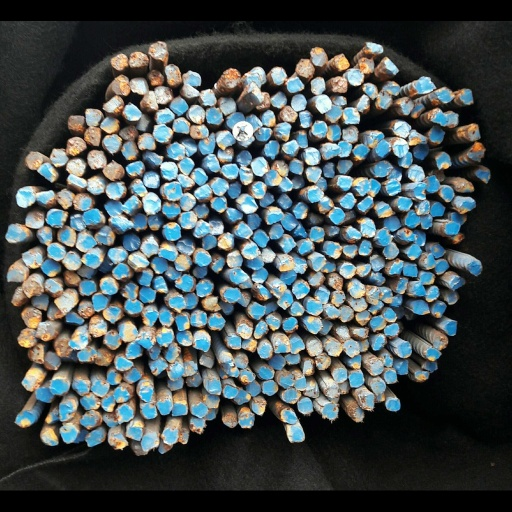dipstick: (102, 160, 125, 181), (46, 208, 68, 228), (22, 278, 44, 298), (245, 81, 264, 104), (5, 223, 26, 243), (21, 308, 42, 328), (94, 225, 115, 245), (57, 225, 76, 247), (66, 136, 86, 156), (87, 149, 107, 169), (75, 233, 96, 252), (112, 74, 130, 96), (15, 189, 35, 208), (118, 322, 138, 341), (128, 252, 148, 271), (140, 237, 159, 257), (164, 64, 182, 85), (102, 95, 124, 112), (148, 40, 167, 59), (50, 148, 69, 167), (59, 424, 78, 443), (153, 86, 173, 104), (140, 90, 158, 110), (102, 134, 122, 152), (109, 215, 129, 233), (143, 193, 161, 213), (215, 131, 235, 149), (83, 125, 100, 146), (129, 77, 148, 95), (122, 102, 141, 120), (170, 97, 188, 116), (25, 151, 43, 170), (37, 164, 56, 182), (86, 175, 104, 194), (36, 190, 55, 208), (55, 189, 73, 208), (47, 243, 66, 261), (63, 252, 82, 270), (44, 279, 63, 297), (17, 329, 36, 347), (43, 351, 61, 370), (121, 195, 139, 214), (166, 142, 185, 160), (152, 124, 171, 142), (22, 251, 42, 268), (41, 259, 61, 276), (175, 274, 195, 291), (154, 108, 175, 124), (110, 53, 128, 71), (37, 322, 55, 340), (54, 338, 72, 356), (138, 331, 156, 349), (149, 358, 167, 376), (164, 182, 182, 200), (65, 158, 84, 175), (119, 124, 138, 141), (25, 211, 44, 228), (6, 265, 25, 282), (15, 410, 34, 427), (58, 402, 75, 421), (104, 330, 121, 349), (160, 161, 177, 180), (188, 105, 205, 124), (226, 112, 245, 129), (251, 157, 268, 176), (278, 234, 295, 253), (296, 58, 313, 77), (128, 51, 148, 67), (11, 286, 27, 306), (80, 393, 100, 409), (224, 68, 240, 88), (85, 108, 102, 126), (121, 141, 138, 159), (73, 193, 91, 210), (106, 182, 124, 199), (99, 277, 117, 294), (80, 411, 98, 428), (85, 430, 103, 447), (116, 404, 133, 422), (122, 234, 140, 251), (164, 222, 181, 240), (130, 179, 147, 197), (205, 106, 222, 124), (179, 192, 196, 210), (166, 363, 184, 380), (217, 232, 234, 250), (304, 317, 322, 334), (315, 95, 332, 113), (325, 105, 342, 123), (343, 339, 360, 357), (417, 76, 434, 94), (373, 160, 391, 177), (36, 226, 52, 245), (21, 375, 40, 391), (176, 238, 195, 254), (310, 47, 326, 66), (35, 387, 55, 402), (69, 214, 86, 231), (77, 301, 94, 318), (41, 429, 58, 446), (92, 379, 109, 396), (125, 342, 142, 359), (151, 256, 168, 273), (143, 171, 160, 188), (191, 168, 208, 185), (174, 254, 191, 271), (211, 178, 228, 195), (342, 107, 359, 124), (99, 116, 117, 132), (63, 271, 81, 287), (92, 293, 108, 311), (27, 345, 43, 363), (50, 379, 68, 395), (124, 298, 142, 314), (189, 310, 207, 326), (194, 185, 212, 201), (220, 97, 236, 115), (260, 109, 276, 127), (281, 212, 297, 230), (318, 196, 334, 214), (322, 143, 340, 159), (342, 125, 358, 143), (393, 121, 411, 137), (393, 139, 409, 157), (104, 200, 123, 215), (65, 311, 84, 326), (68, 334, 87, 349), (77, 347, 96, 362), (108, 248, 127, 263), (181, 137, 196, 156), (210, 253, 225, 272), (292, 255, 307, 274), (147, 69, 164, 85), (183, 70, 200, 86), (67, 115, 84, 131), (83, 209, 100, 225), (31, 294, 48, 310), (89, 321, 106, 337), (113, 386, 129, 403), (141, 434, 158, 450), (122, 282, 138, 299), (112, 263, 128, 280), (153, 276, 169, 293), (126, 160, 143, 176), (138, 133, 155, 149), (180, 211, 196, 228), (142, 309, 158, 326), (176, 330, 193, 346), (226, 250, 242, 267), (210, 195, 226, 212), (243, 243, 260, 259), (230, 268, 247, 284), (252, 267, 268, 284), (245, 213, 261, 230), (240, 197, 257, 213), (199, 137, 215, 154), (282, 140, 299, 156), (264, 170, 281, 186), (266, 208, 283, 224), (315, 353, 331, 370), (304, 148, 320, 165), (287, 77, 304, 93), (348, 69, 364, 86), (345, 226, 361, 243), (377, 91, 393, 108), (398, 98, 414, 115), (357, 195, 374, 211), (408, 166, 425, 182), (458, 197, 475, 213), (434, 153, 451, 169), (109, 434, 127, 449), (82, 253, 100, 268), (162, 202, 180, 217), (179, 157, 194, 175), (221, 164, 239, 179), (271, 67, 286, 85), (276, 123, 291, 141), (310, 77, 325, 95), (375, 139, 390, 157), (470, 142, 485, 160), (180, 84, 199, 98), (68, 173, 87, 187), (122, 368, 141, 382), (239, 166, 253, 185), (136, 271, 152, 287), (131, 213, 147, 229), (173, 117, 189, 133), (200, 89, 216, 105), (193, 202, 209, 218), (234, 389, 250, 405), (262, 380, 278, 396), (205, 379, 221, 395), (209, 314, 225, 330), (248, 303, 264, 319), (281, 106, 297, 122), (268, 223, 284, 239), (322, 403, 338, 419), (307, 186, 323, 202), (329, 208, 345, 224), (339, 263, 355, 279), (362, 83, 378, 99), (383, 243, 399, 259), (413, 144, 429, 160), (79, 280, 96, 295), (195, 281, 212, 296), (235, 223, 252, 238), (271, 91, 286, 108), (283, 388, 300, 403), (318, 318, 333, 335), (292, 283, 309, 298), (312, 121, 327, 138), (334, 54, 349, 71), (332, 76, 347, 93), (383, 81, 400, 96), (370, 254, 385, 271), (384, 216, 401, 231), (375, 202, 392, 217), (405, 210, 420, 227), (429, 126, 444, 143), (103, 306, 121, 320), (190, 124, 208, 138), (177, 173, 195, 187), (253, 321, 267, 339), (254, 126, 272, 140), (412, 229, 426, 247), (102, 412, 118, 427), (131, 440, 147, 455), (162, 428, 178, 443), (156, 331, 172, 346), (139, 287, 155, 302), (166, 264, 182, 279), (158, 311, 173, 327), (238, 412, 254, 427), (202, 296, 218, 311), (224, 288, 240, 303), (195, 251, 211, 266), (194, 221, 209, 237), (237, 323, 252, 339), (253, 231, 268, 247), (251, 182, 266, 198), (279, 256, 295, 271), (277, 293, 293, 308), (298, 397, 313, 413), (326, 341, 342, 356), (307, 300, 323, 315), (314, 287, 329, 303), (311, 255, 326, 271), (306, 167, 321, 183), (291, 94, 306, 110), (326, 124, 341, 140), (337, 141, 352, 157), (358, 58, 374, 73), (353, 144, 369, 159), (337, 175, 352, 191), (340, 193, 355, 209), (360, 220, 375, 236), (438, 88, 454, 103), (76, 379, 90, 396), (115, 356, 132, 370), (207, 155, 221, 172), (288, 428, 305, 442), (299, 111, 313, 128), (384, 58, 398, 75), (378, 229, 392, 246), (427, 175, 440, 193), (368, 178, 380, 197), (141, 403, 156, 418), (190, 418, 205, 433), (259, 364, 274, 379), (201, 235, 216, 250), (218, 148, 233, 163), (236, 151, 251, 166), (259, 192, 274, 207), (264, 140, 279, 155), (282, 409, 297, 424), (279, 373, 294, 388), (337, 159, 352, 174), (332, 368, 347, 383), (327, 243, 342, 258), (444, 289, 459, 304), (397, 196, 412, 211), (431, 111, 446, 126), (475, 169, 490, 184), (139, 386, 153, 402), (169, 295, 185, 309), (175, 314, 189, 330), (191, 403, 207, 417), (245, 382, 261, 396), (226, 207, 242, 221), (258, 343, 272, 359), (280, 270, 296, 284), (269, 355, 285, 369), (290, 337, 304, 353), (308, 340, 322, 356), (310, 226, 324, 242), (293, 203, 307, 219), (331, 290, 345, 306), (339, 306, 353, 322), (439, 186, 453, 202), (160, 248, 177, 261), (166, 377, 183, 390), (355, 179, 368, 196), (126, 426, 141, 440), (148, 215, 162, 230), (183, 293, 197, 308), (183, 361, 197, 376), (222, 414, 237, 428), (192, 264, 207, 278), (261, 248, 275, 263), (278, 194, 292, 209), (265, 316, 280, 330), (275, 339, 290, 353), (308, 272, 323, 286), (298, 240, 313, 254), (289, 160, 303, 175), (349, 373, 364, 387), (356, 310, 370, 325), (358, 240, 372, 255), (397, 342, 411, 357), (432, 303, 446, 318), (413, 300, 428, 314), (425, 286, 439, 301), (407, 245, 421, 260), (450, 276, 465, 290), (418, 214, 432, 229), (387, 180, 401, 195), (193, 338, 209, 351), (247, 256, 263, 269), (228, 182, 241, 198), (367, 42, 383, 55), (361, 394, 374, 410), (351, 298, 367, 311), (349, 284, 365, 297), (379, 287, 392, 303), (370, 316, 386, 329), (373, 334, 386, 350), (399, 152, 412, 168), (460, 88, 473, 104), (445, 111, 458, 127), (468, 260, 481, 276), (205, 394, 219, 408), (234, 354, 248, 368), (227, 335, 241, 349), (242, 338, 256, 352), (283, 317, 297, 331), (434, 335, 448, 349), (435, 260, 449, 274), (431, 202, 445, 216), (45, 408, 58, 423), (102, 396, 115, 411), (186, 373, 201, 386), (223, 385, 238, 398), (252, 399, 265, 414), (385, 398, 400, 411), (445, 321, 458, 336), (445, 222, 460, 235), (323, 162, 335, 178), (414, 183, 426, 199), (451, 212, 467, 224), (468, 124, 480, 140), (107, 371, 121, 384), (157, 401, 171, 414), (199, 355, 213, 368), (225, 364, 239, 377), (291, 302, 304, 316), (326, 305, 340, 318), (351, 408, 364, 422), (370, 361, 383, 375), (343, 244, 357, 257), (384, 308, 397, 322), (384, 323, 398, 336), (371, 381, 385, 394), (395, 360, 408, 374), (426, 347, 440, 360), (240, 370, 255, 382), (401, 229, 416, 241), (424, 253, 435, 269), (357, 263, 370, 276), (384, 370, 397, 383), (390, 261, 403, 274), (413, 283, 426, 296), (390, 293, 403, 306), (431, 244, 444, 257), (172, 403, 186, 415), (294, 376, 306, 390), (285, 353, 300, 364), (352, 328, 368, 338), (424, 360, 437, 372), (416, 202, 429, 214), (303, 361, 314, 375), (403, 265, 417, 276), (420, 273, 434, 284), (326, 386, 338, 398), (382, 354, 393, 367), (415, 371, 428, 381)
